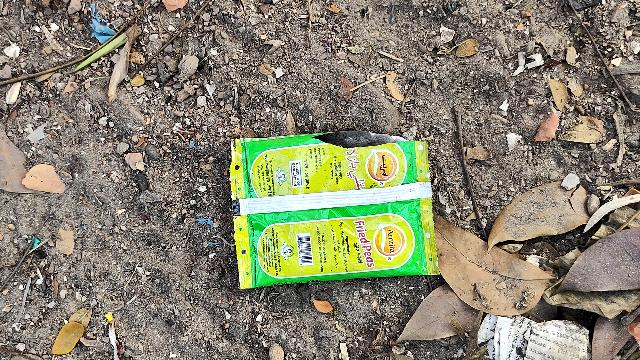packet: (234, 121, 436, 287)
